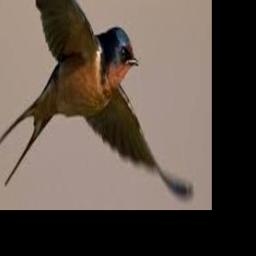Swallow: (0, 0, 196, 210)
